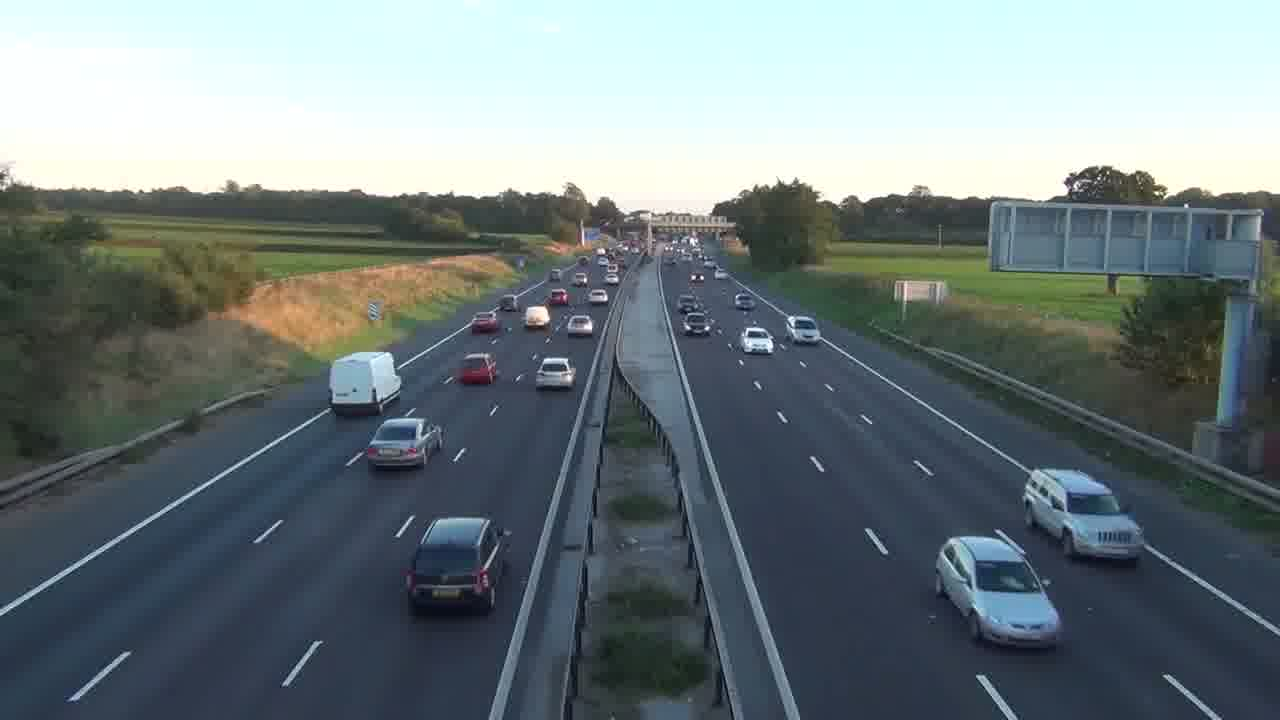car: (934, 531, 1063, 650), (1022, 466, 1145, 563), (402, 515, 512, 615), (366, 415, 445, 470), (456, 351, 499, 386), (535, 355, 577, 390), (784, 315, 821, 344), (741, 326, 774, 354), (588, 288, 609, 305)
truck: (329, 350, 401, 417)
